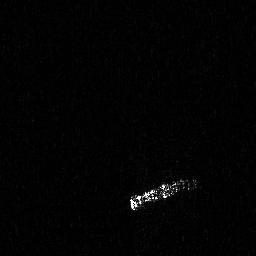ship: (128, 172, 201, 212)
